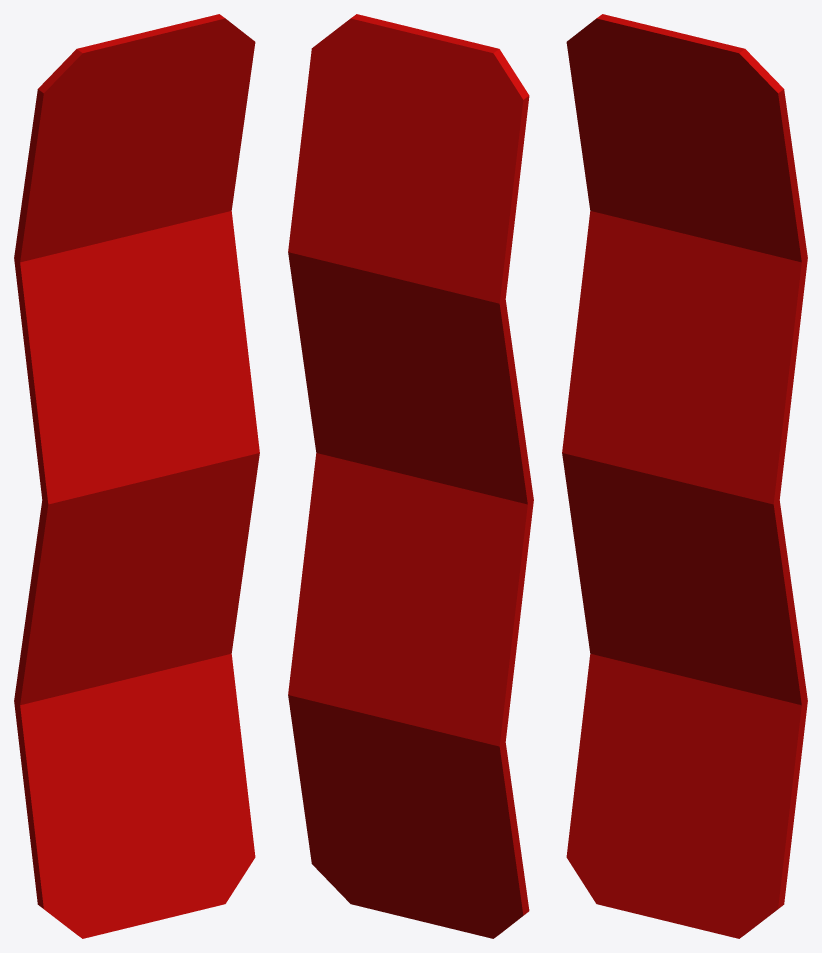
The model's file is bacon.obj.
3 views of the same model, side by side, from view 1: azimuth 30°, elevation 25°; view 2: azimuth 150°, elevation 25°; view 3: azimuth 330°, elevation 25° (orthographic).
Visible parts, largest first — view 1: bacon.003; view 2: bacon.003; view 3: bacon.003.
Boxes of the visible parts, <box> form: bacon.003: <box>14,14,259,938</box>; bacon.003: <box>288,14,533,938</box>; bacon.003: <box>562,14,807,938</box>.
Bounding box in the file's own units: 0.065 × 0.26 × 0.0182.
